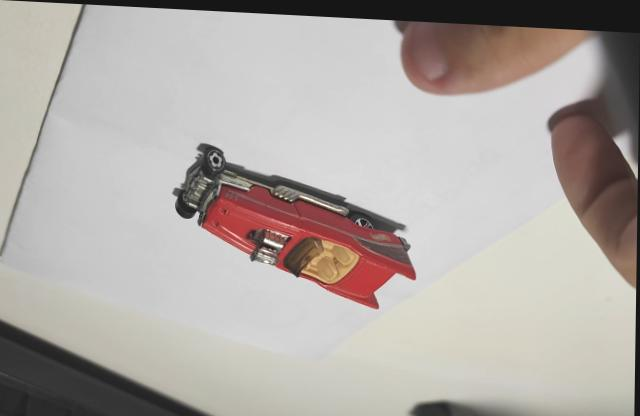03_V8: (174, 140, 417, 302)
